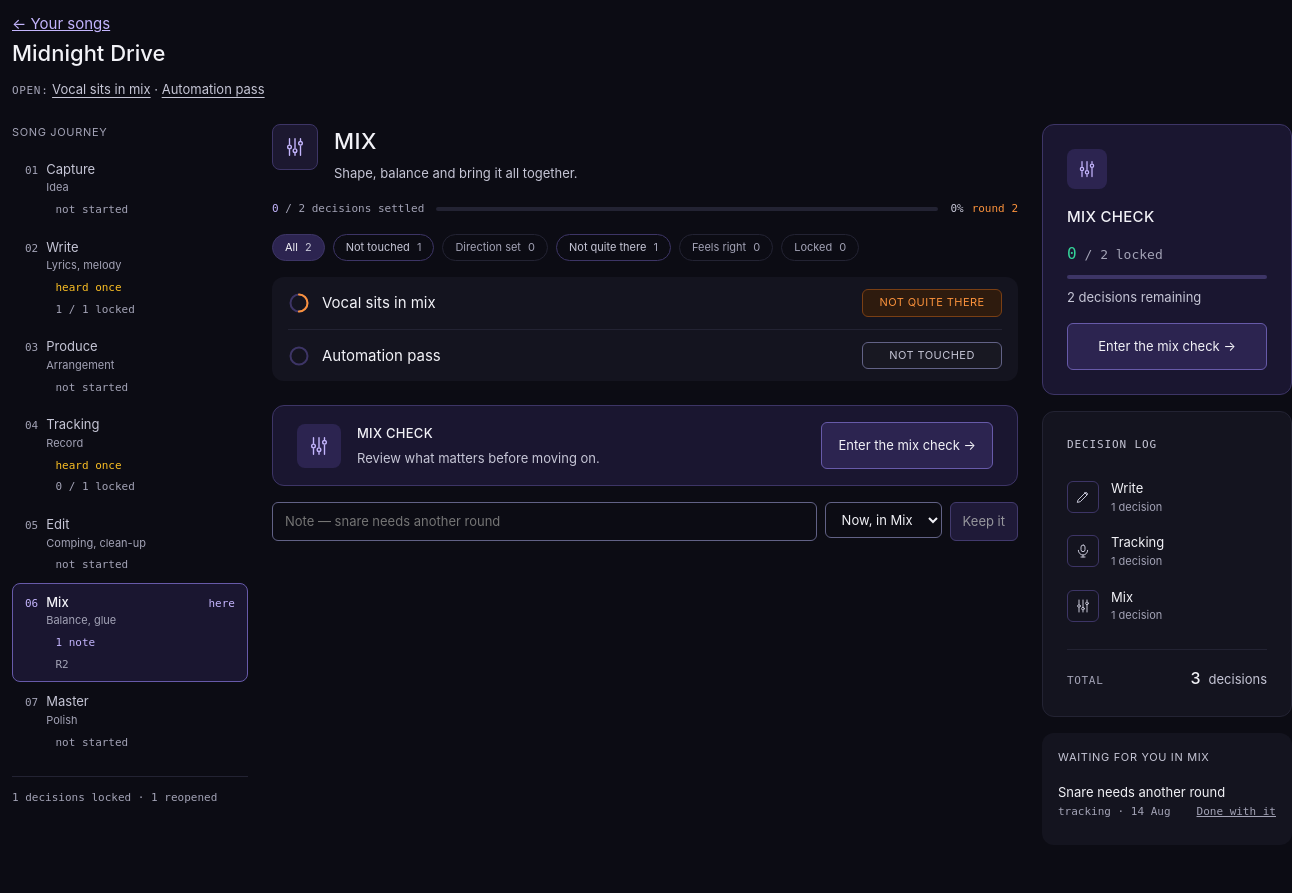
Test: the song journey › lets every phase be opened, whatever has happened in the others
Check: the heading "Mix" is shown, box x1=334 y1=128 x2=377 y2=154
Step 1. Click the link "07 Master Polish not started" → [77, 721], box x1=25 y1=693 x2=128 y2=749
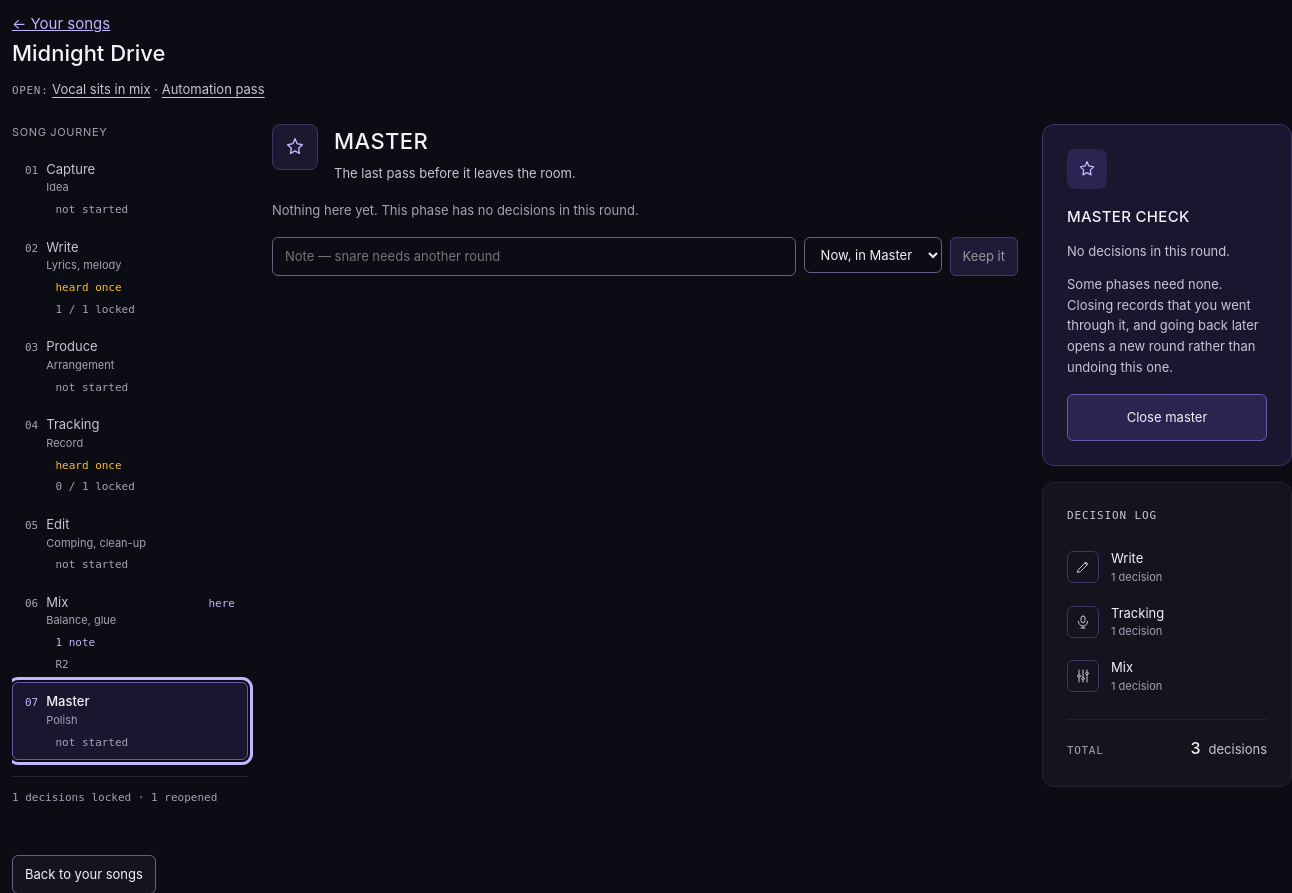
Check: the heading "Master" is shown, box x1=334 y1=128 x2=428 y2=154
